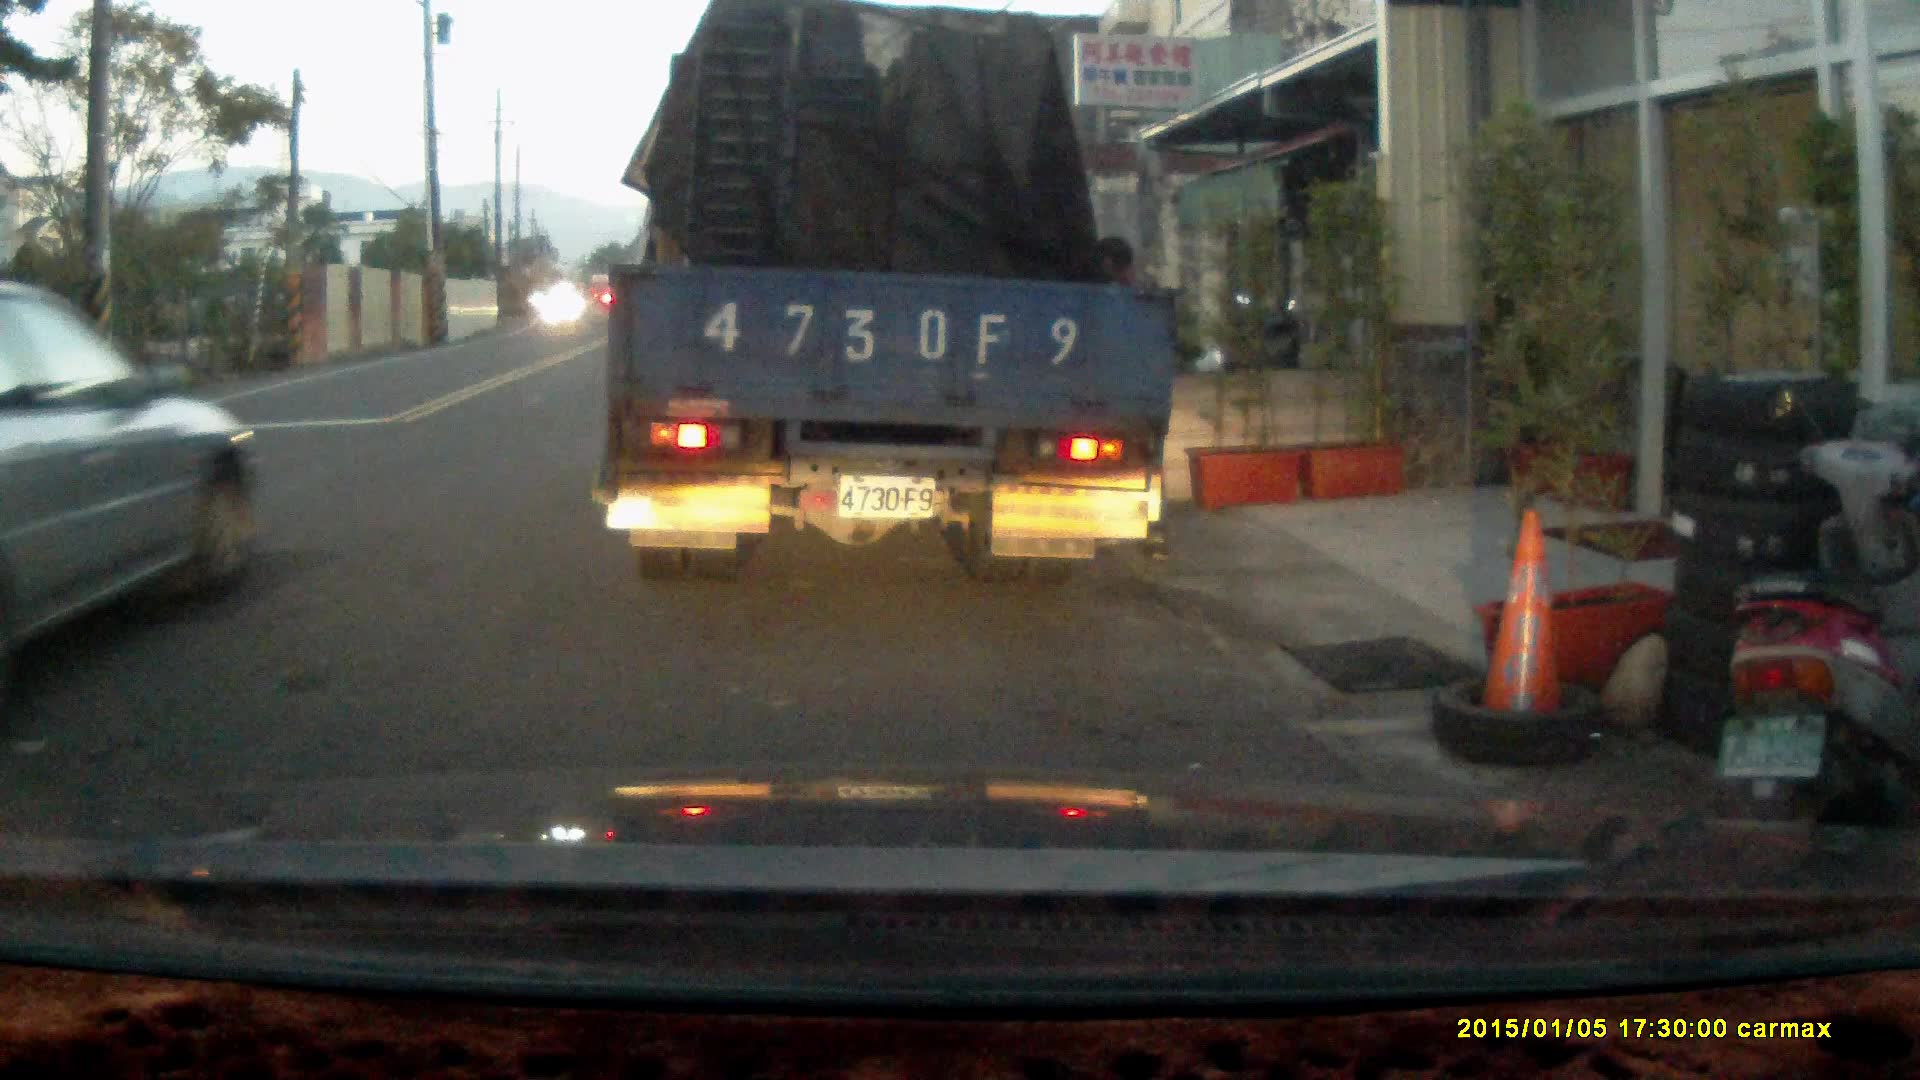vehicle: (605, 22, 1188, 572), (1, 282, 265, 698)
